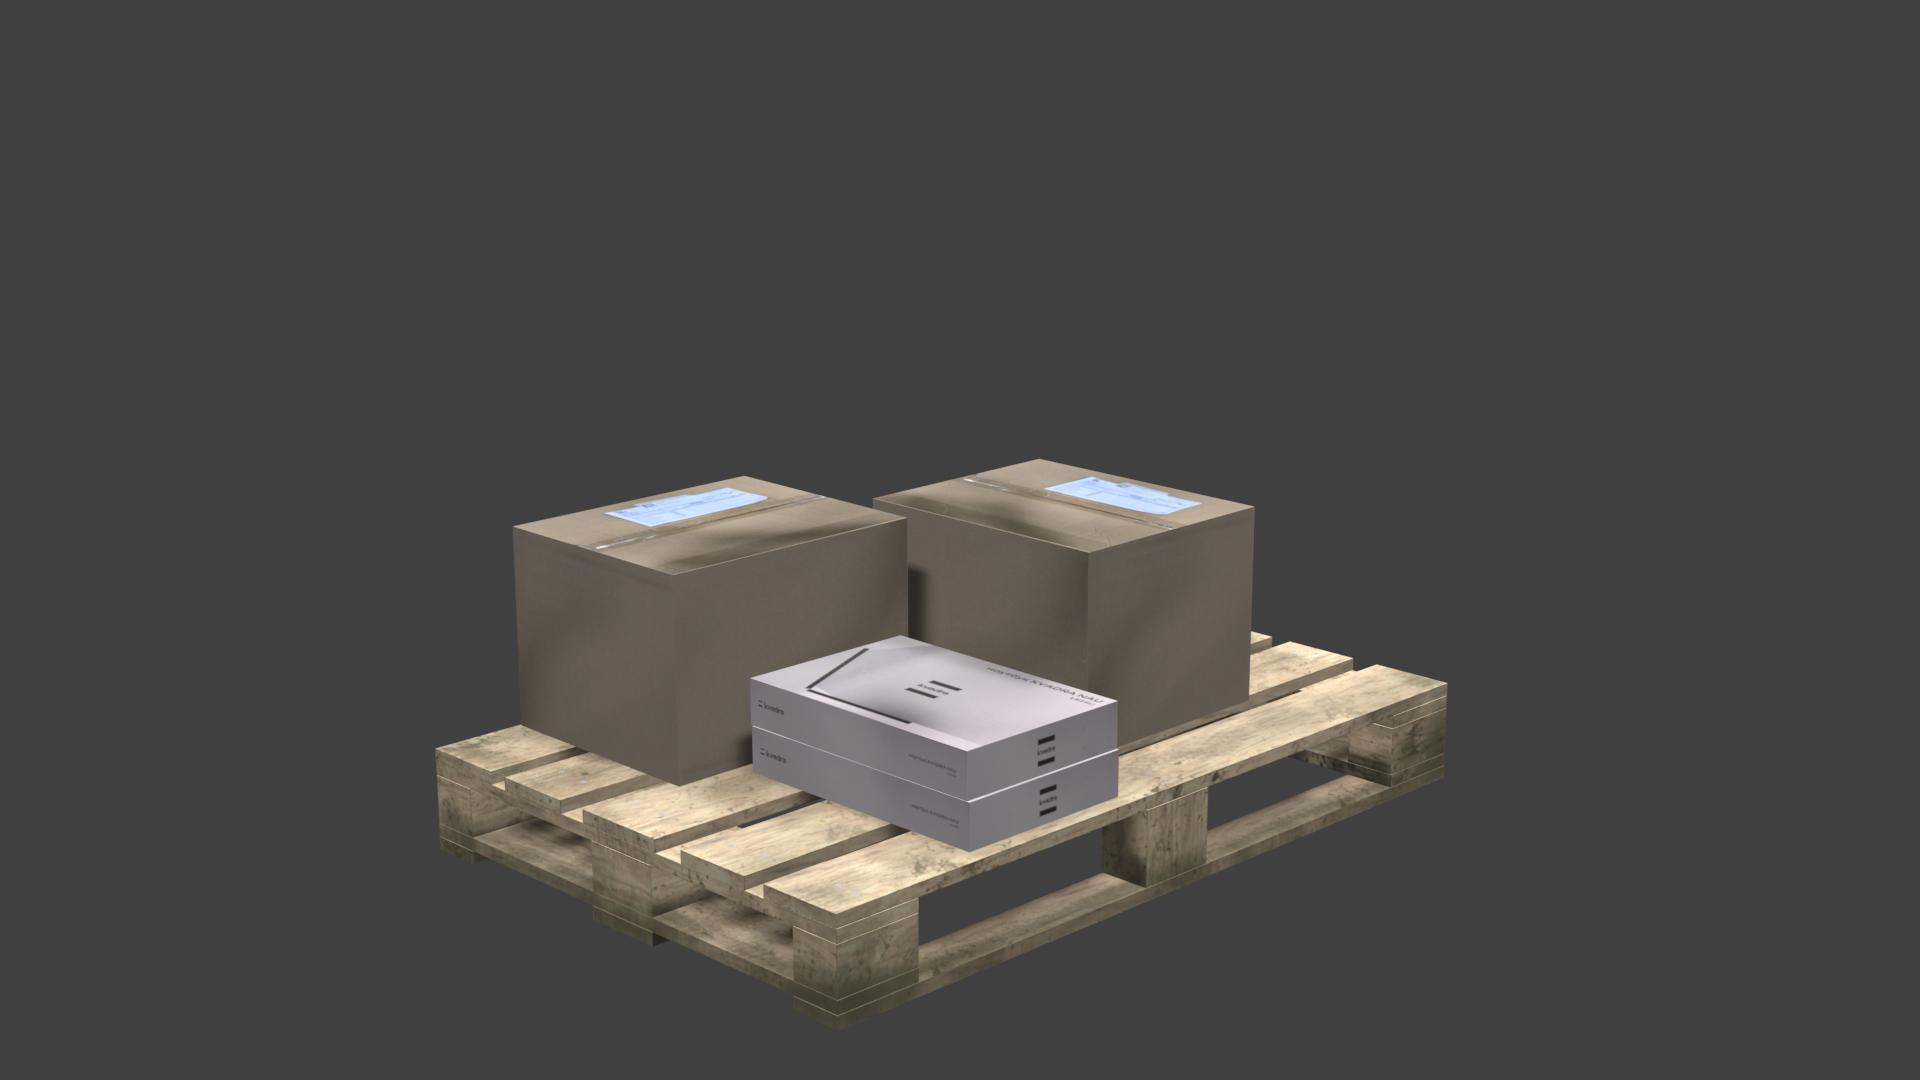group_box_left: (514, 518, 907, 786), (874, 500, 1254, 746)
group_box_top: (514, 476, 907, 576), (874, 459, 1250, 554)
laptop_left: (752, 727, 1118, 851), (750, 679, 1117, 799)
laptop_top: (752, 637, 1117, 753)
palet: (434, 632, 1448, 1034)
